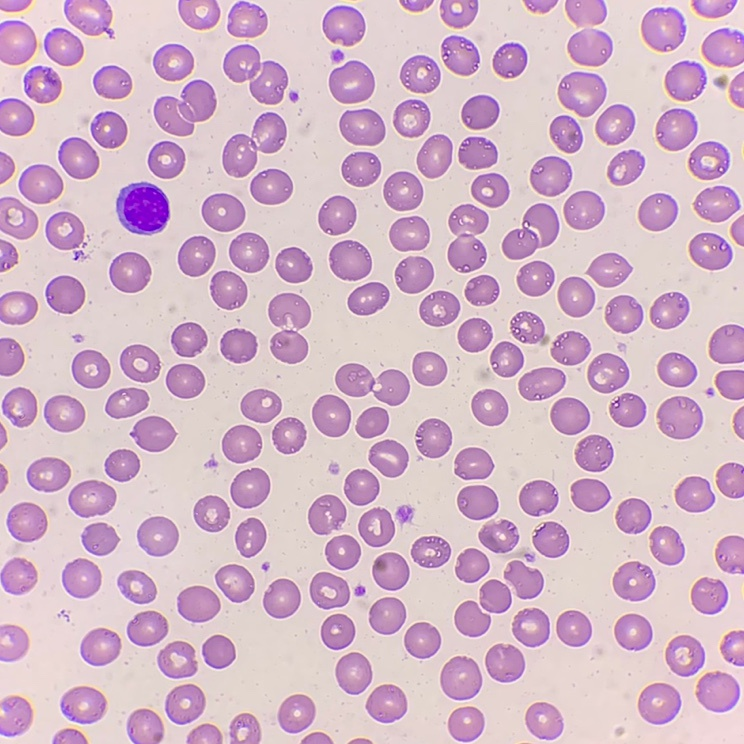RBC: (222, 113, 286, 176), (224, 45, 287, 104), (154, 80, 215, 135), (503, 204, 558, 258), (269, 293, 310, 362), (448, 205, 487, 272), (116, 183, 168, 233), (558, 72, 605, 116), (329, 61, 374, 103), (658, 396, 701, 438), (441, 657, 481, 699), (638, 683, 680, 723), (69, 480, 115, 516), (19, 165, 62, 203), (110, 252, 150, 292), (323, 6, 364, 45), (330, 241, 371, 280), (340, 109, 384, 145), (642, 10, 681, 50), (59, 138, 98, 178), (656, 109, 694, 150), (312, 395, 350, 436), (137, 517, 178, 555), (613, 562, 654, 600), (697, 673, 738, 711), (202, 194, 244, 231), (568, 29, 611, 65), (694, 186, 738, 221), (61, 687, 105, 722), (229, 233, 268, 272), (530, 157, 570, 195), (588, 354, 628, 392), (519, 367, 564, 400), (564, 191, 603, 229), (231, 468, 269, 507), (165, 685, 204, 723), (0, 198, 37, 238), (666, 635, 703, 675), (702, 29, 743, 65), (177, 586, 219, 621), (27, 457, 70, 491), (665, 62, 703, 100), (384, 172, 422, 210), (8, 503, 46, 541), (62, 559, 100, 597), (596, 105, 633, 144), (222, 425, 261, 462), (308, 495, 345, 534), (367, 685, 406, 722), (153, 44, 193, 80), (690, 233, 730, 269), (178, 236, 214, 276), (44, 395, 84, 431), (251, 169, 292, 204), (133, 416, 174, 451), (69, 0, 111, 34), (417, 135, 451, 177), (689, 142, 727, 179), (46, 276, 84, 313), (558, 277, 594, 316), (120, 345, 159, 381), (81, 628, 120, 664), (158, 641, 197, 677), (336, 653, 371, 693), (46, 212, 83, 249), (72, 350, 109, 387), (505, 561, 542, 598), (401, 56, 439, 92), (319, 196, 355, 234), (551, 398, 589, 434), (369, 440, 407, 476), (264, 579, 300, 617), (486, 645, 524, 681), (310, 572, 349, 607), (442, 37, 478, 74), (148, 141, 184, 178), (639, 194, 676, 230), (395, 257, 432, 293), (605, 295, 641, 332), (216, 565, 253, 601), (513, 609, 549, 646), (278, 695, 314, 732), (0, 26, 35, 64), (650, 293, 688, 328), (458, 485, 497, 519), (128, 611, 167, 645), (589, 253, 629, 286), (576, 435, 612, 471), (369, 597, 405, 633), (526, 702, 562, 738), (211, 271, 246, 308), (520, 480, 557, 515), (359, 509, 394, 546), (342, 152, 380, 186), (420, 291, 458, 325), (417, 419, 451, 457), (675, 477, 713, 511), (390, 217, 429, 250), (241, 389, 280, 422), (348, 282, 388, 314), (394, 100, 429, 136), (373, 553, 408, 589), (710, 325, 743, 363), (166, 364, 204, 397), (3, 388, 36, 426), (91, 112, 126, 147), (472, 390, 507, 425), (533, 522, 568, 557), (1, 558, 36, 593), (691, 578, 726, 613), (517, 261, 553, 295), (615, 614, 651, 648), (404, 623, 440, 657), (448, 707, 484, 741), (127, 709, 163, 743), (658, 353, 695, 386), (118, 570, 155, 603), (0, 696, 32, 734), (276, 248, 311, 282), (194, 496, 228, 531), (455, 601, 489, 636), (556, 611, 590, 646), (106, 388, 147, 417), (462, 95, 498, 128), (472, 173, 508, 206), (220, 329, 256, 362), (94, 66, 131, 98), (552, 332, 589, 364), (336, 364, 373, 396), (651, 527, 683, 564), (228, 5, 266, 36), (479, 521, 517, 552), (616, 499, 650, 533), (326, 535, 360, 569), (0, 100, 33, 135), (608, 151, 643, 184), (171, 323, 206, 356), (272, 418, 305, 453), (345, 469, 378, 504), (0, 291, 36, 323), (459, 137, 496, 168), (412, 536, 449, 567), (49, 31, 82, 65), (321, 614, 354, 648), (179, 0, 219, 28), (573, 479, 608, 511), (550, 116, 581, 152), (235, 519, 265, 556), (493, 44, 526, 77), (458, 318, 491, 351), (413, 352, 446, 385), (610, 393, 643, 426), (82, 523, 117, 554), (456, 549, 488, 582), (202, 635, 235, 667), (491, 342, 522, 376), (105, 449, 139, 480), (457, 448, 492, 478), (28, 70, 60, 102), (378, 370, 408, 404), (716, 536, 743, 573), (511, 312, 544, 342), (0, 625, 28, 660), (441, 0, 477, 27), (466, 275, 498, 305), (480, 580, 510, 612), (357, 407, 388, 437), (566, 0, 605, 23), (230, 714, 260, 743), (0, 338, 23, 375), (718, 463, 743, 497), (716, 370, 743, 399), (187, 724, 222, 743), (0, 240, 16, 271), (703, 0, 732, 17), (721, 644, 743, 665), (54, 729, 85, 743), (730, 73, 743, 106), (0, 153, 13, 181), (525, 0, 555, 11), (731, 217, 743, 244), (302, 733, 331, 743), (734, 409, 743, 436), (397, 506, 412, 519), (0, 467, 7, 489), (729, 631, 743, 642), (0, 0, 15, 10), (415, 0, 431, 9), (716, 76, 727, 87), (519, 548, 529, 557), (0, 428, 5, 445), (17, 0, 28, 7), (330, 464, 338, 472), (354, 739, 368, 743), (693, 0, 701, 5)
